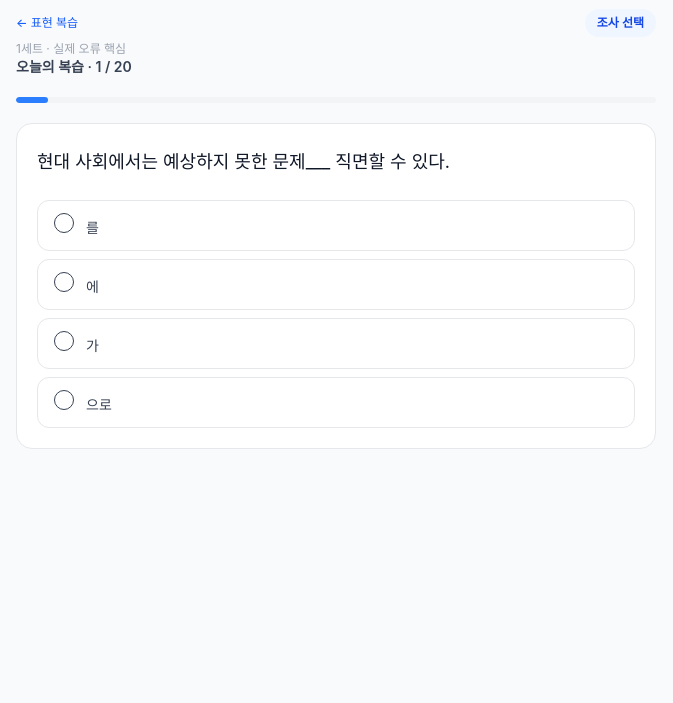
Test: ReviewSession › grades a selected answer immediately and shows the saved feedback
expect the text "현대 사회에서는 예상하지 못한 문제___ 직면할 수 있다." is shown: met, box 37,151 -> 450,172
Click the radio button labelled "를": (64, 223) 37,200 -> 635,251
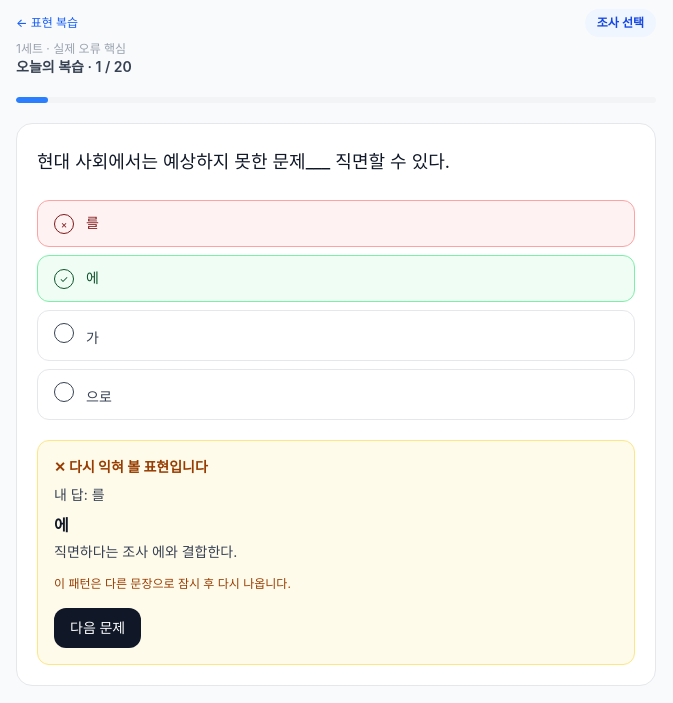
expect the text "✕ 다시 익혀 볼 표현입니다" is shown: met, box 54,458 -> 208,475
expect the text "직면하다는 조사 에와 결합한다." is shown: met, box 54,543 -> 237,560
expect the text "이 패턴은 다른 문장으로 잠시 후 다시 나옵니다." is shown: met, box 54,576 -> 291,591
